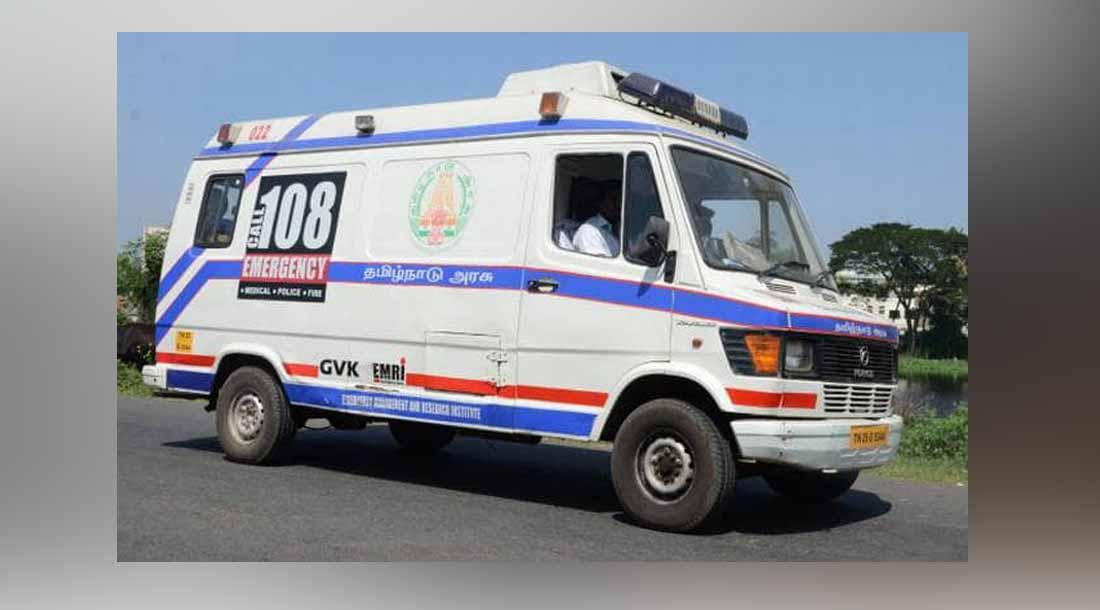ER: (149, 62, 904, 526)
